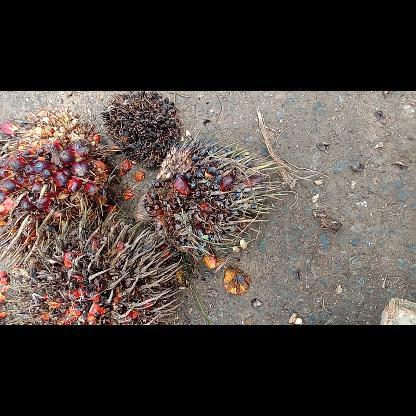TBS abnormal: (134, 138, 286, 270), (99, 91, 183, 171)
TBS masak: (1, 108, 117, 260)
Terlalu masak: (10, 212, 182, 324)
